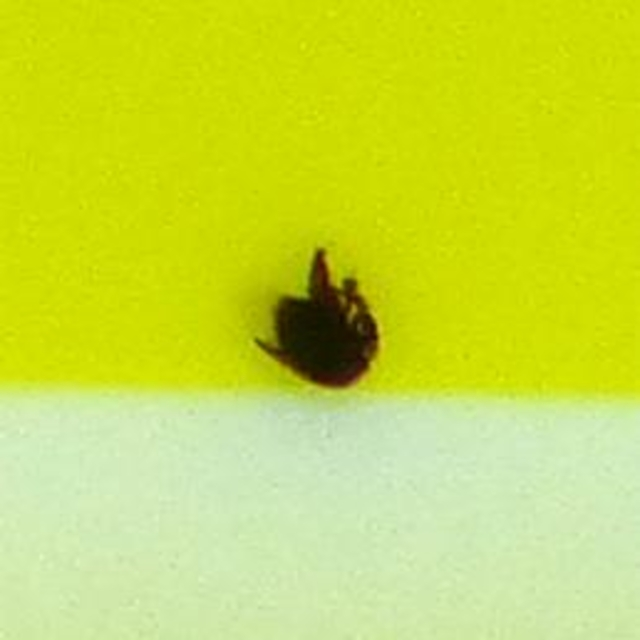Hymenoptera: (248, 238, 392, 402)
